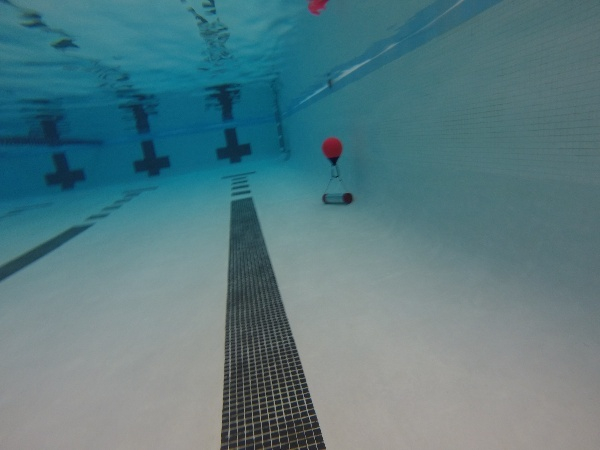buoy_red: (319, 137, 346, 167)
